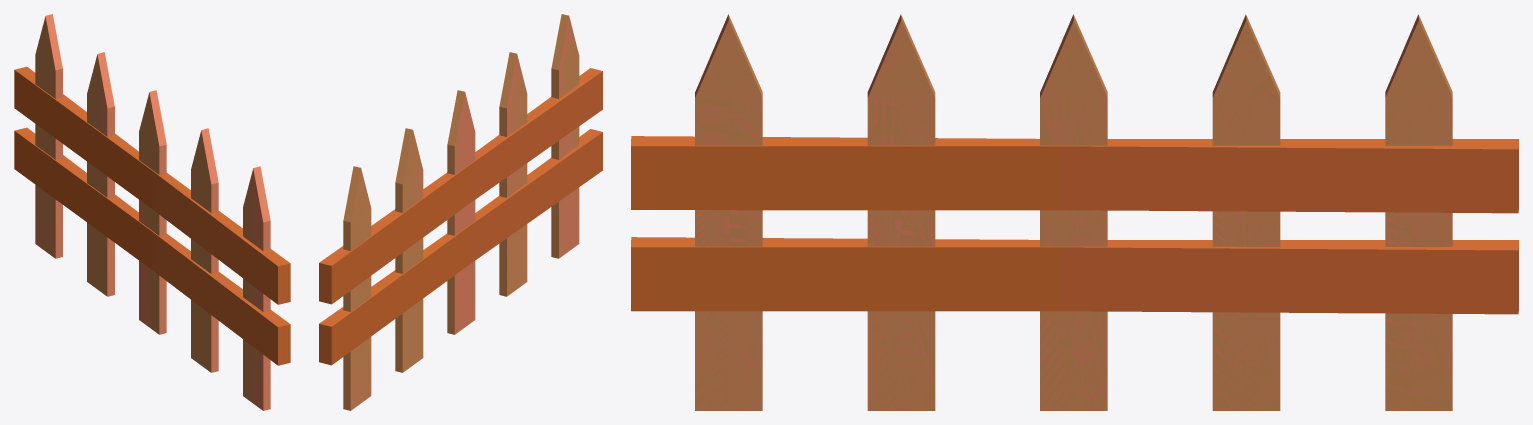
The model's file is staccionata.gltf.
The picture shows the model from 3 angles, left to right: view 1: azimuth 30°, elevation 25°; view 2: azimuth 150°, elevation 25°; view 3: azimuth 270°, elevation 25°; orthographic projection. The views are drawn at different scales.
Visible parts, largest first — view 1: Plane.001, Plane, Cube.001, Cube; view 2: Cube.001, Plane.001, Plane, Cube; view 3: Cube.001, Plane.001, Plane, Cube.
Boxes of the visible parts, bbox=[...] form: Plane.001: bbox=[14, 68, 290, 364]; Plane: bbox=[19, 66, 286, 365]; Cube.001: bbox=[35, 16, 267, 404]; Cube: bbox=[35, 14, 270, 410]; Cube.001: bbox=[343, 14, 579, 410]; Plane.001: bbox=[322, 68, 598, 365]; Plane: bbox=[319, 69, 602, 364]; Cube: bbox=[350, 16, 579, 410]; Cube.001: bbox=[695, 14, 1452, 410]; Plane.001: bbox=[631, 139, 1518, 311]; Plane: bbox=[631, 136, 1518, 314]; Cube: bbox=[695, 14, 1452, 410].
Size of the model in its own units: 0.1829 by 2.5 by 5.15.
